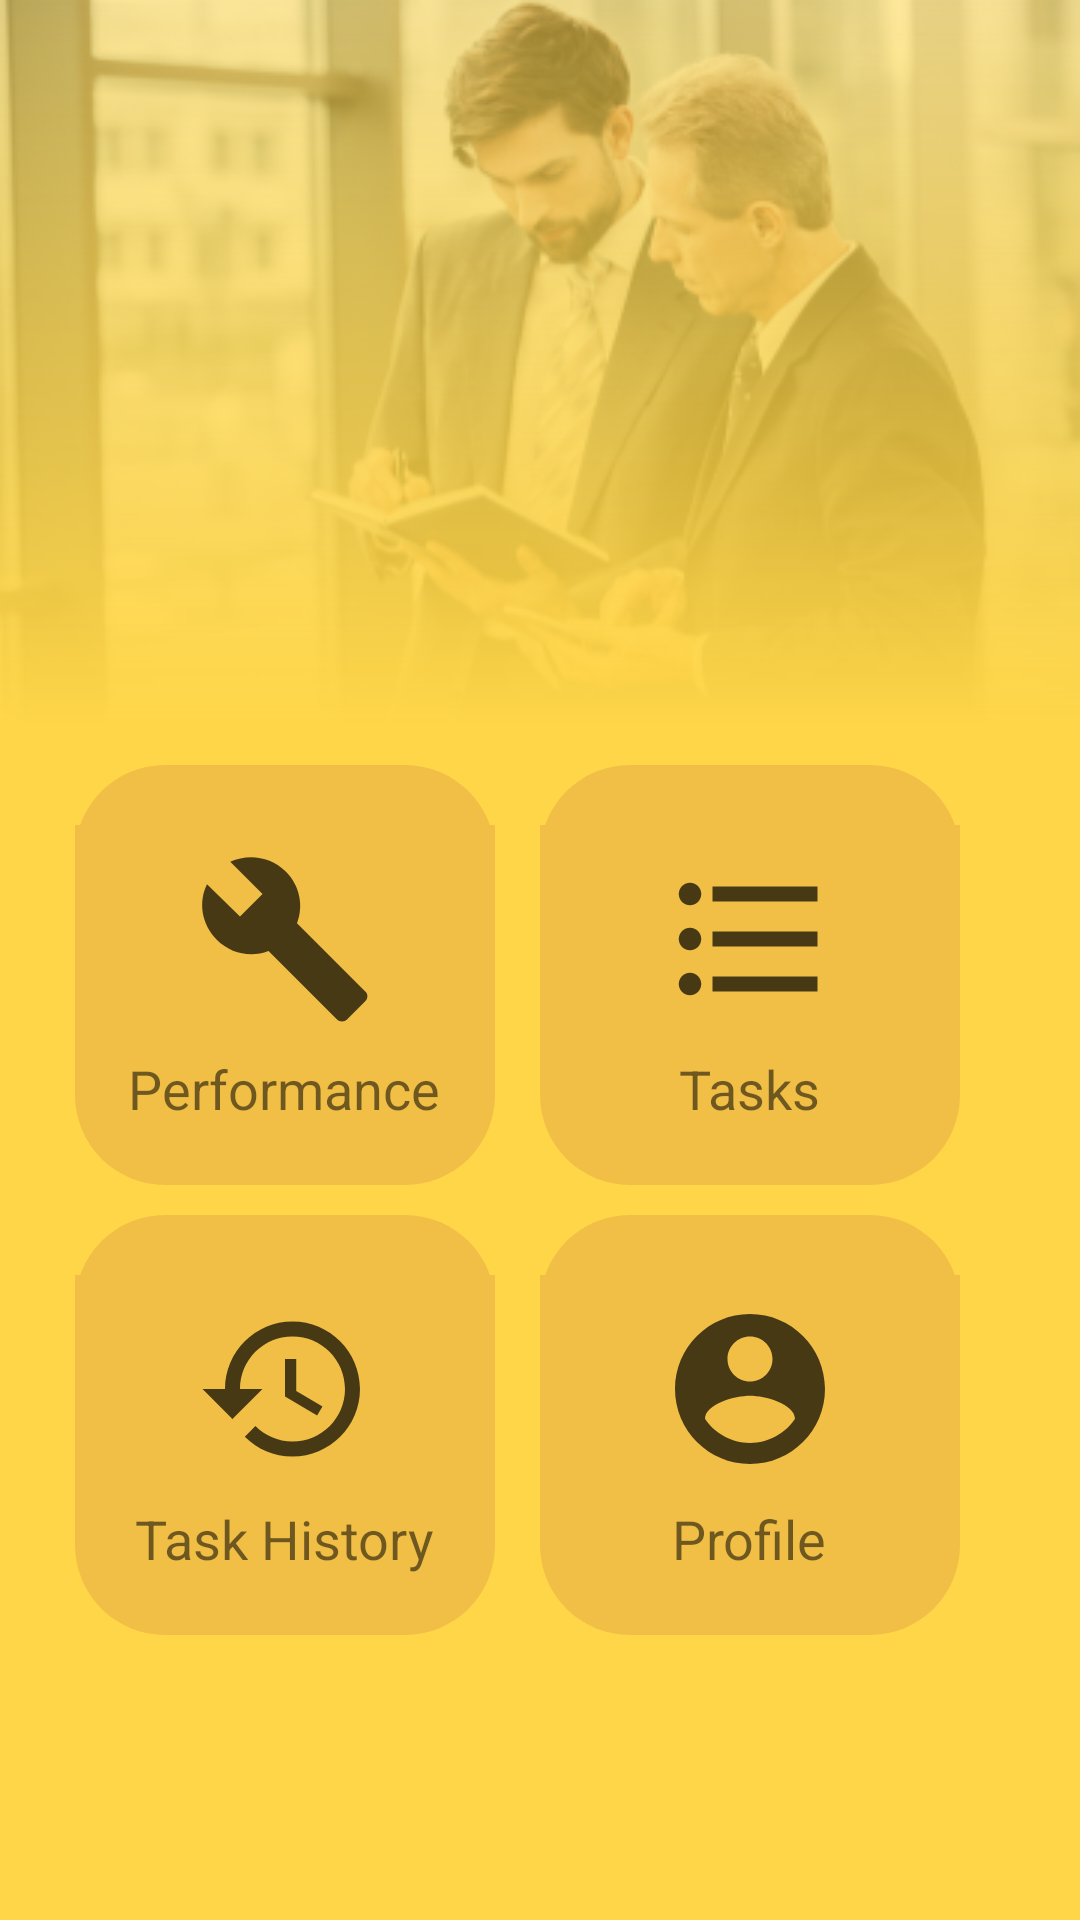

Where icons sit on this 1080px x 1920px app screen, as bbox=(x1, y1, x2, y2):
emplist: bbox=(678, 882, 818, 996)
